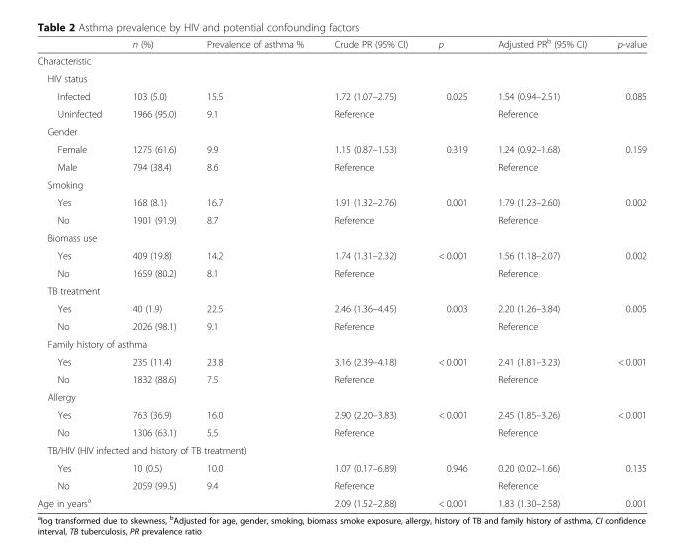table: (36, 36, 646, 508)
table column: (190, 36, 318, 508), (481, 36, 601, 508), (318, 36, 422, 508), (36, 36, 116, 508), (116, 36, 190, 508), (422, 36, 481, 508), (601, 36, 646, 508)
table column header: (36, 36, 646, 52)
table projected row header: (36, 122, 646, 140), (36, 175, 646, 193), (36, 228, 646, 246), (36, 281, 646, 299), (36, 334, 646, 352), (36, 387, 646, 405), (36, 440, 646, 458), (36, 52, 646, 69), (36, 69, 646, 86)
table row: (36, 86, 646, 104), (36, 104, 646, 122), (36, 122, 646, 140), (36, 157, 646, 175), (36, 175, 646, 193), (36, 210, 646, 228), (36, 228, 646, 246), (36, 263, 646, 281), (36, 281, 646, 299), (36, 299, 646, 317), (36, 334, 646, 352), (36, 352, 646, 370), (36, 387, 646, 405), (36, 405, 646, 423), (36, 440, 646, 458), (36, 458, 646, 476), (36, 52, 646, 69), (36, 69, 646, 86), (36, 140, 646, 157), (36, 193, 646, 210), (36, 246, 646, 263), (36, 317, 646, 334), (36, 370, 646, 387), (36, 423, 646, 440), (36, 476, 646, 493), (36, 36, 646, 52), (36, 493, 646, 508)
